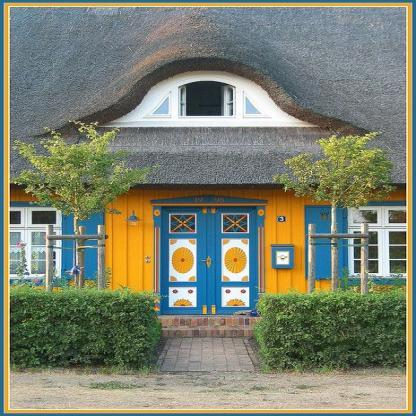Blind: (304, 205, 342, 280), (67, 207, 105, 280)
Building Outline: (10, 7, 406, 319)
Cornice: (149, 194, 268, 205)
Deco: (271, 244, 293, 268), (276, 216, 287, 222)
Dont: (10, 120, 165, 367), (250, 131, 406, 373)
Door: (163, 207, 257, 315)
Facade: (10, 7, 406, 337)
Floor Slab: (10, 183, 406, 189)
Ground Floor: (10, 189, 406, 319)
Roof: (9, 7, 406, 190)
Top Floor: (10, 7, 406, 183)
Window: (348, 207, 406, 278), (10, 207, 63, 279), (178, 81, 236, 116), (152, 97, 169, 114), (246, 97, 262, 114)
Window Outline: (340, 200, 406, 286), (10, 201, 70, 286)
